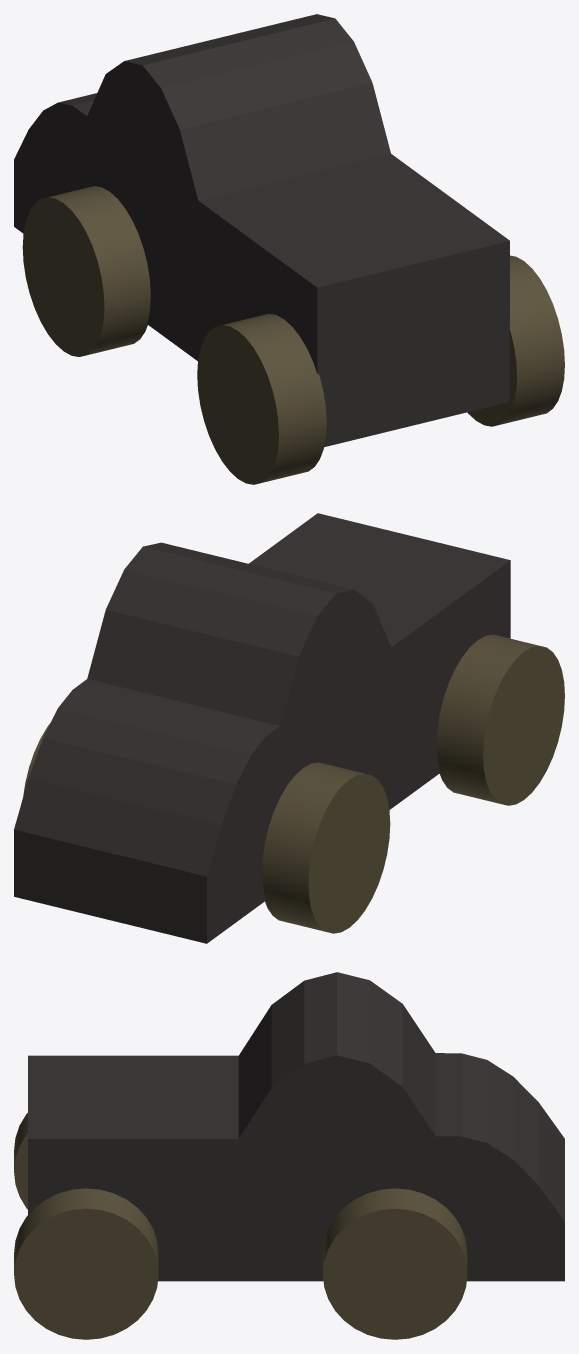
The model's file is toycar.fbx.
3 renders of one model, top to bottom at view 1: azimuth 30°, elevation 25°; view 2: azimuth 150°, elevation 25°; view 3: azimuth 270°, elevation 25°, orthographic. The views are drawn at different scales.
Visible parts, largest first — view 1: Cube.025, Cylinder.004, Cylinder.005, Cylinder.002; view 2: Cube.025, Cylinder.005, Cylinder.004; view 3: Cube.025, Cylinder.003, Cylinder.002, Cylinder.004.
Boxes of the visible parts, x1,y1,x2,y2 form: Cube.025: [14, 14, 509, 447]; Cylinder.004: [197, 313, 326, 484]; Cylinder.005: [22, 186, 150, 356]; Cylinder.002: [467, 255, 564, 426]; Cube.025: [14, 513, 510, 943]; Cylinder.005: [262, 762, 390, 933]; Cylinder.004: [436, 634, 564, 805]; Cube.025: [28, 972, 564, 1281]; Cylinder.003: [322, 1188, 467, 1339]; Cylinder.002: [14, 1188, 158, 1339]; Cylinder.004: [14, 1113, 27, 1209].
Size of the model in its own units: 20.19 by 20.14 by 38.07.
